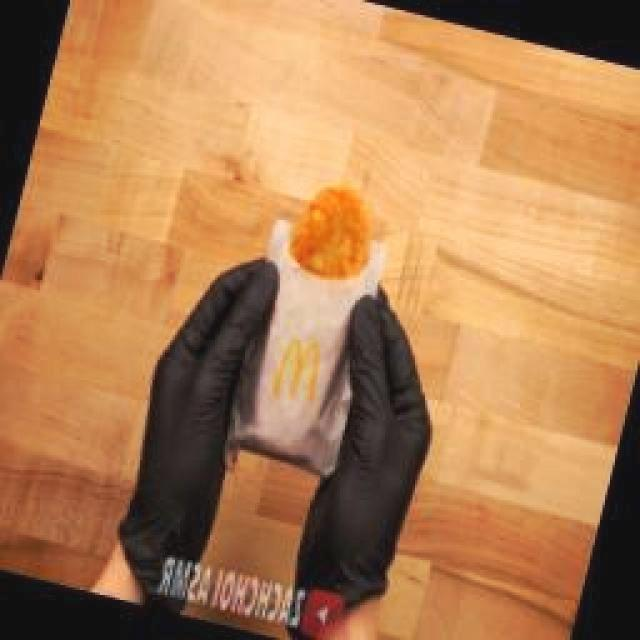Hashbrown: (289, 188, 369, 279)
